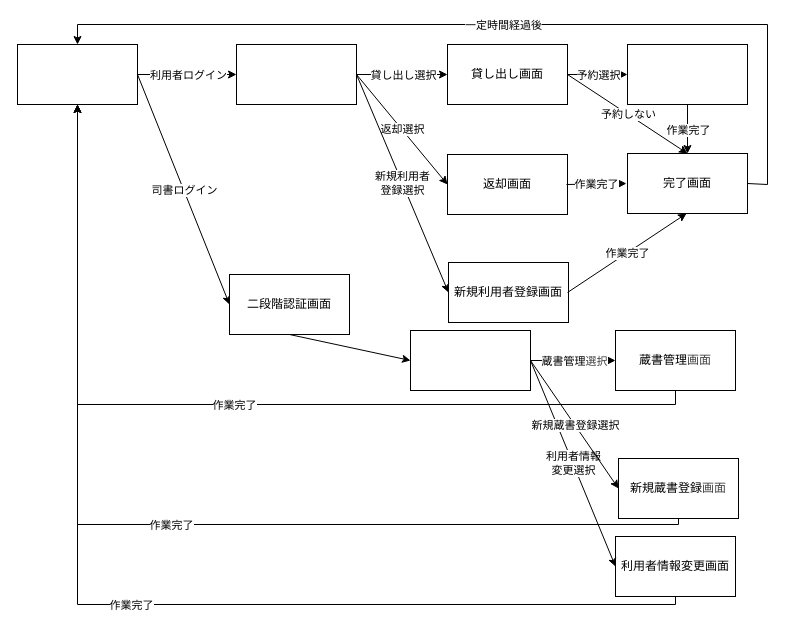
Image size: 793x630. Some labels were removed from this diagram. Here are the shapes that lost their labels. From the top down, the centre of each, then its label:
At point (77, 74): "ログイン画面".
At point (296, 74): "メインメニュー".
At point (687, 74): "予約画面".
At point (470, 360): "司書メニュー".
